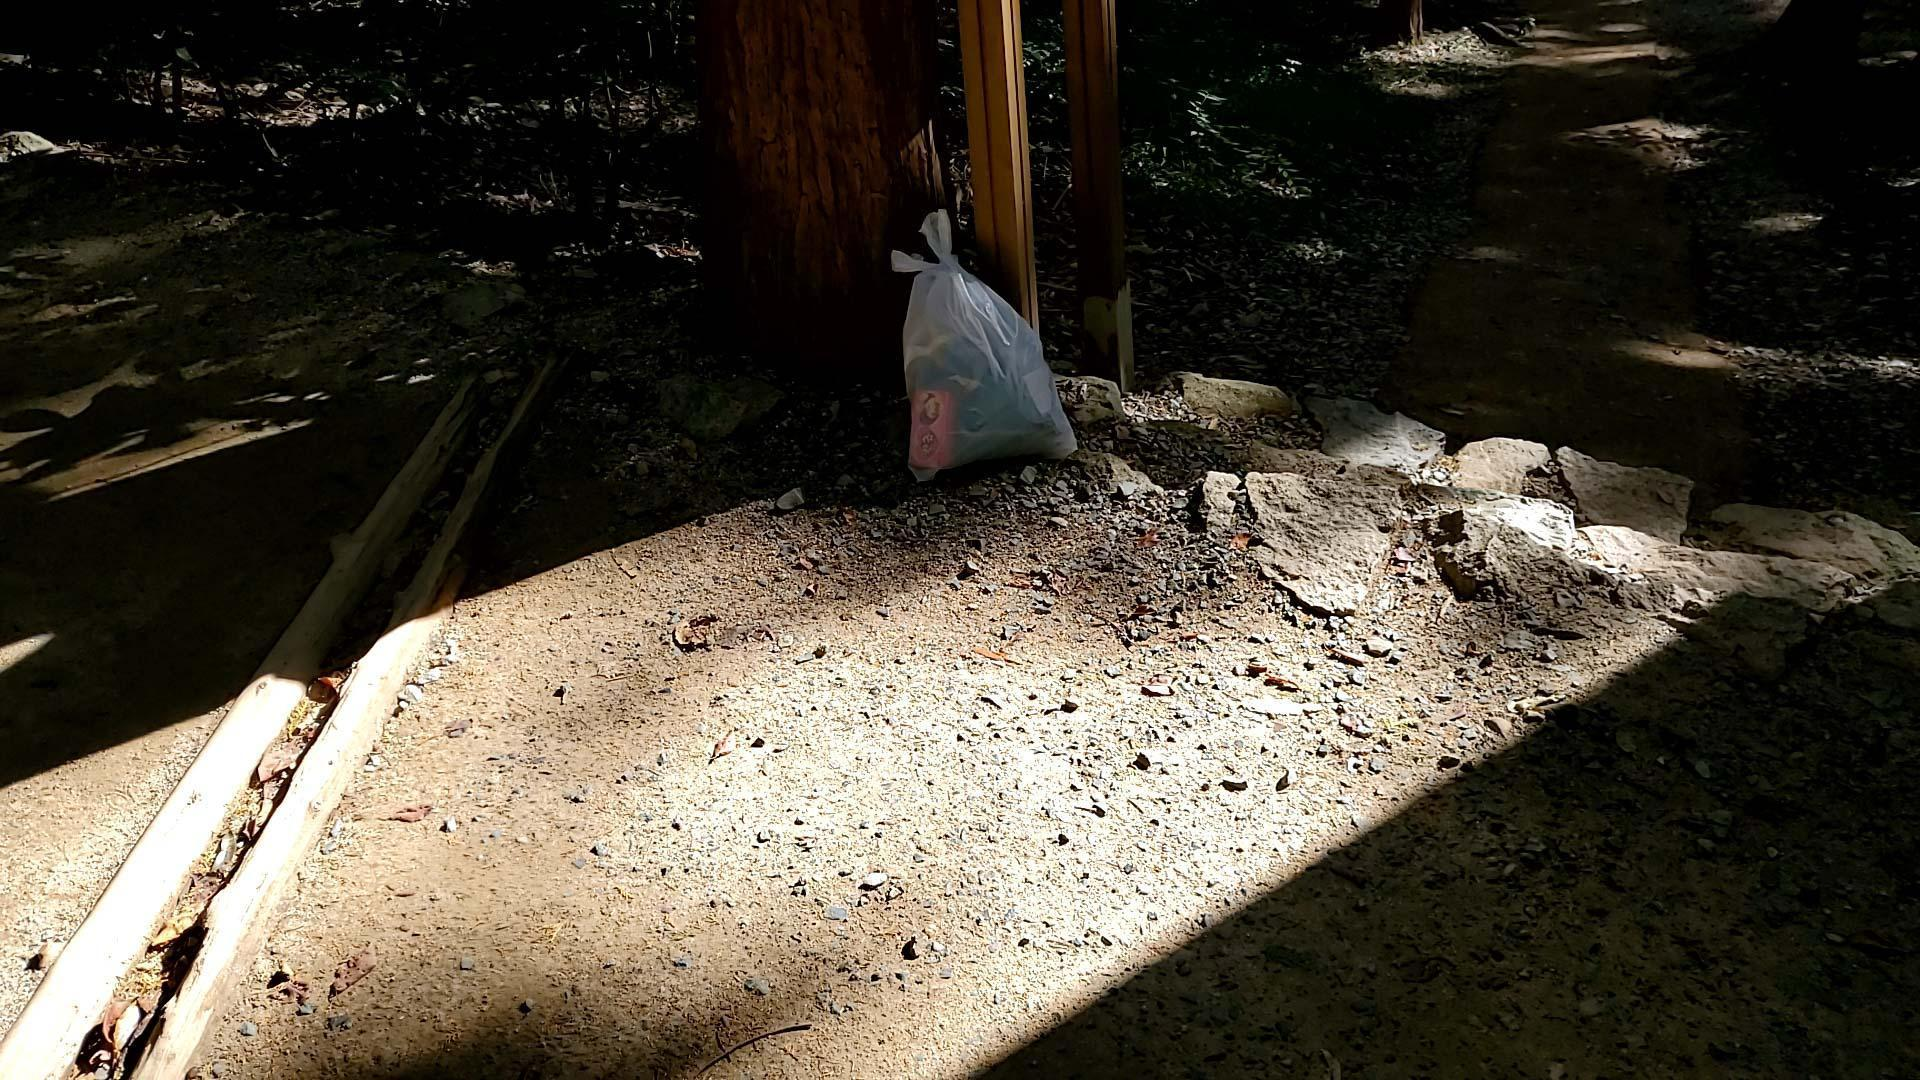white_bag: (866, 200, 1093, 489)
